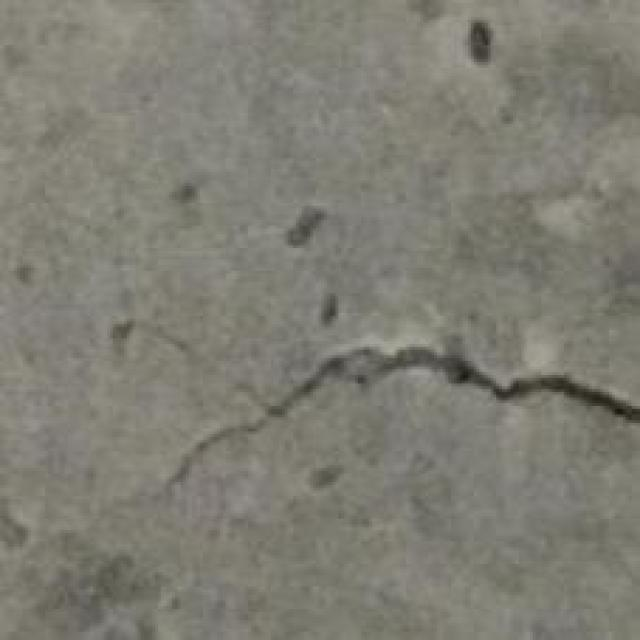Crack: (111, 316, 640, 520)
